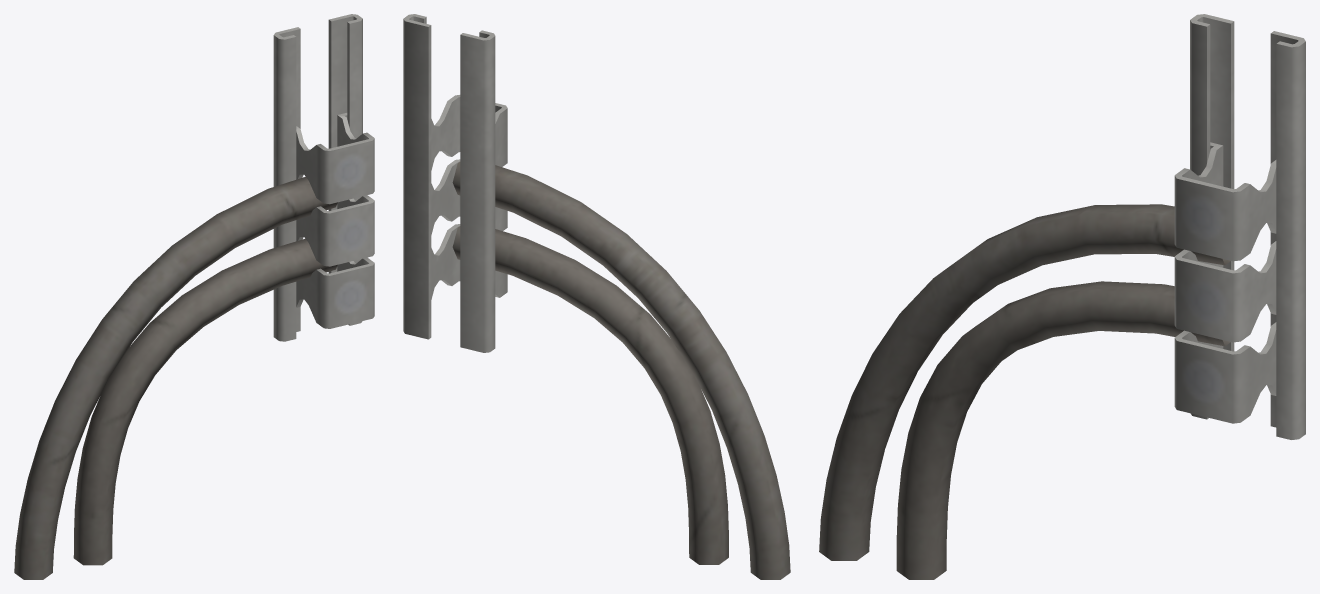
The model's file is cable_cable_double_alt_turn.fbx.
3 views of the same model, side by side, from view 1: azimuth 30°, elevation 25°; view 2: azimuth 150°, elevation 25°; view 3: azimuth 330°, elevation 25° (orthographic). The views are drawn at different scales.
Parts seen in each view (by area): view 1: modular_electric_cables__cable_double_alt_turn; view 2: modular_electric_cables__cable_double_alt_turn; view 3: modular_electric_cables__cable_double_alt_turn.
Part boxes in pixels (box(x1,y1,x2,y2)): modular_electric_cables__cable_double_alt_turn: box(14, 14, 374, 579); modular_electric_cables__cable_double_alt_turn: box(403, 14, 790, 579); modular_electric_cables__cable_double_alt_turn: box(819, 14, 1305, 579).
Size of the model in its own units: 0.1189 by 0.149 by 0.0221.
